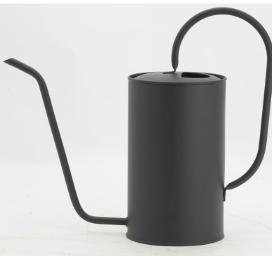ARROSOIR: (0, 8, 272, 256)
